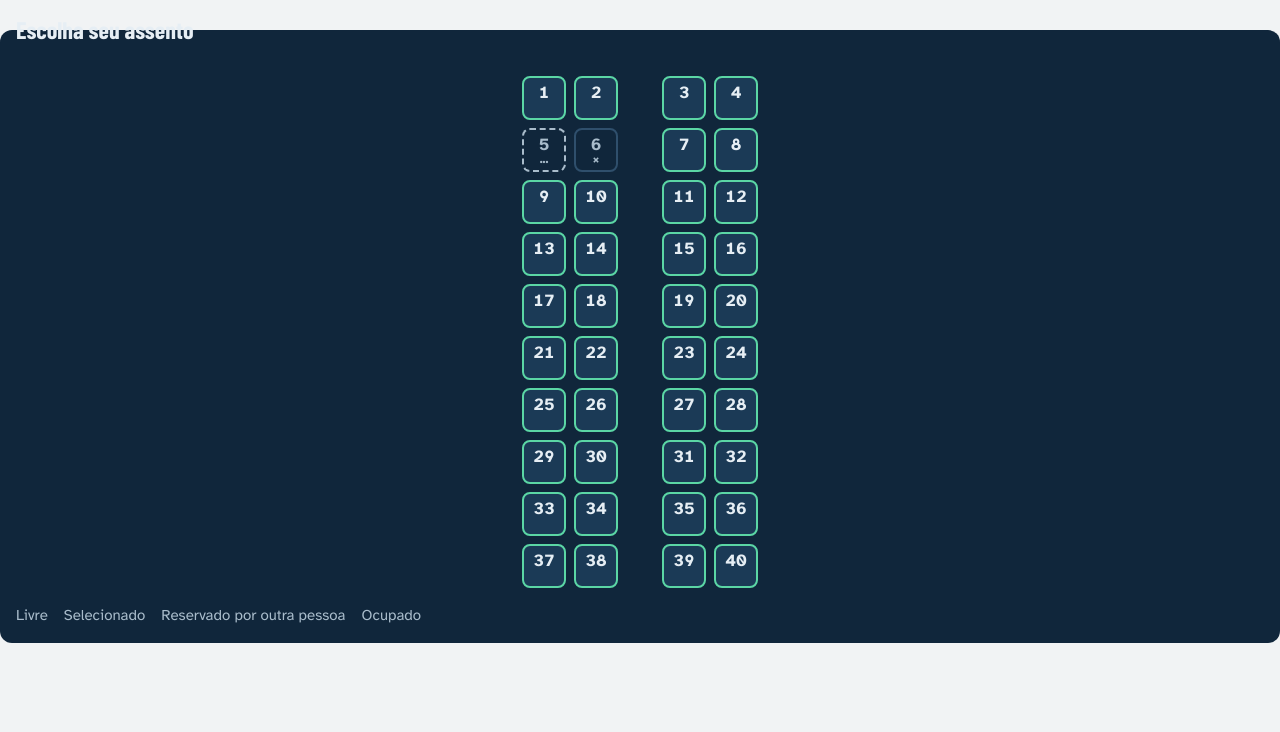
Test: SeatGrid › o teclado entra na grade com um Tab e as setas pulam os assentos indisponíveis
Step 1. Press Tab
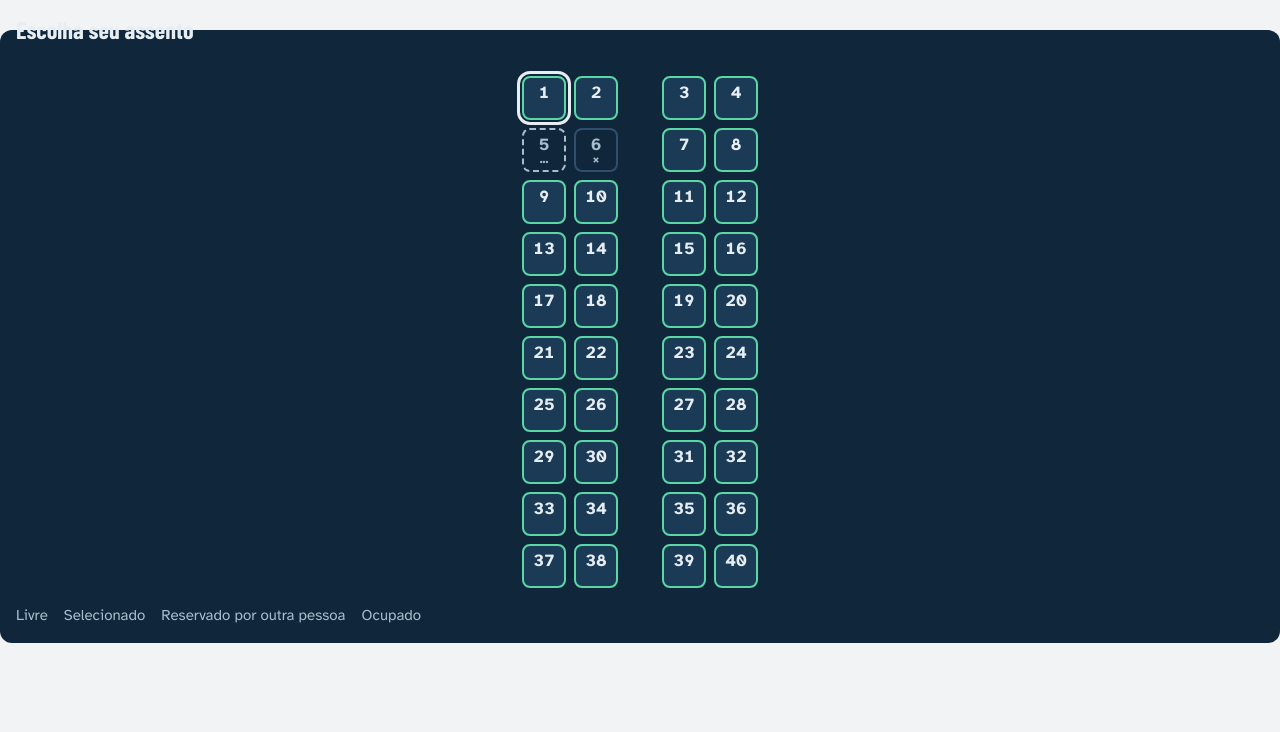
Step 2. Click the radio button named "Assento 4, livre" → (736, 98), box [714,76,758,120]
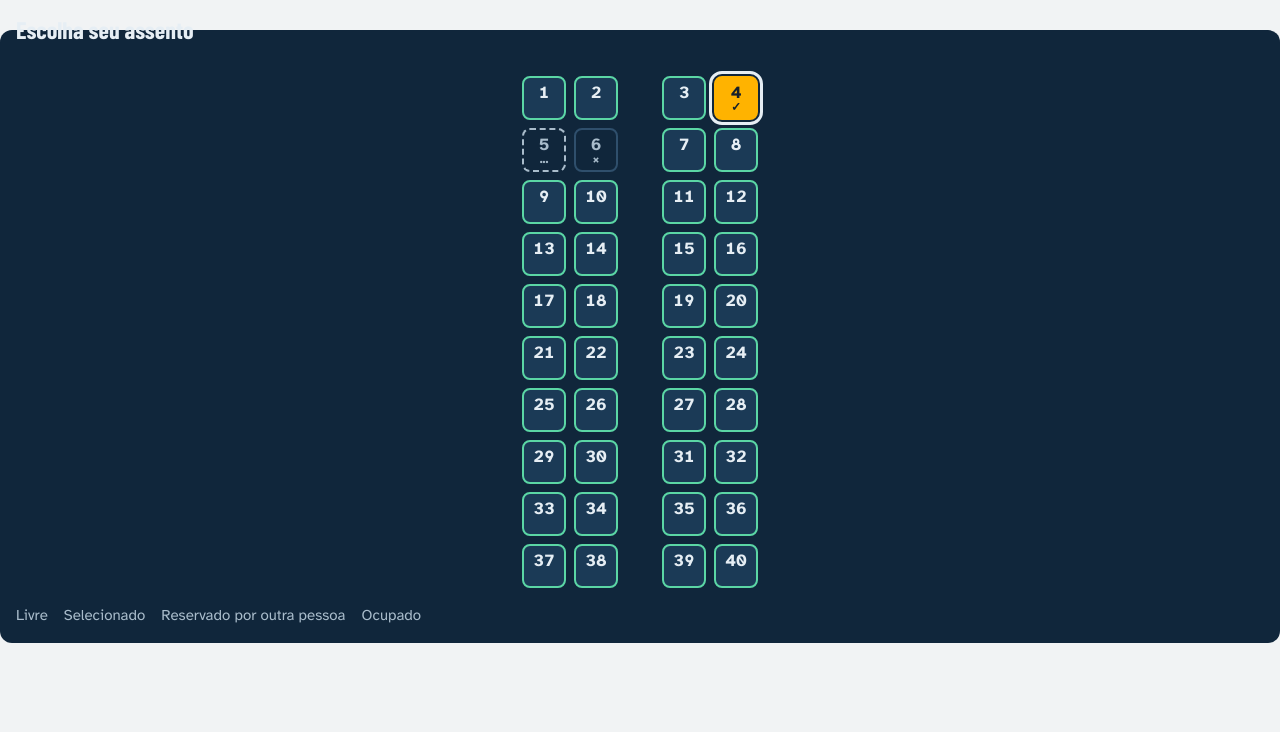
Step 3. Press Arrowright
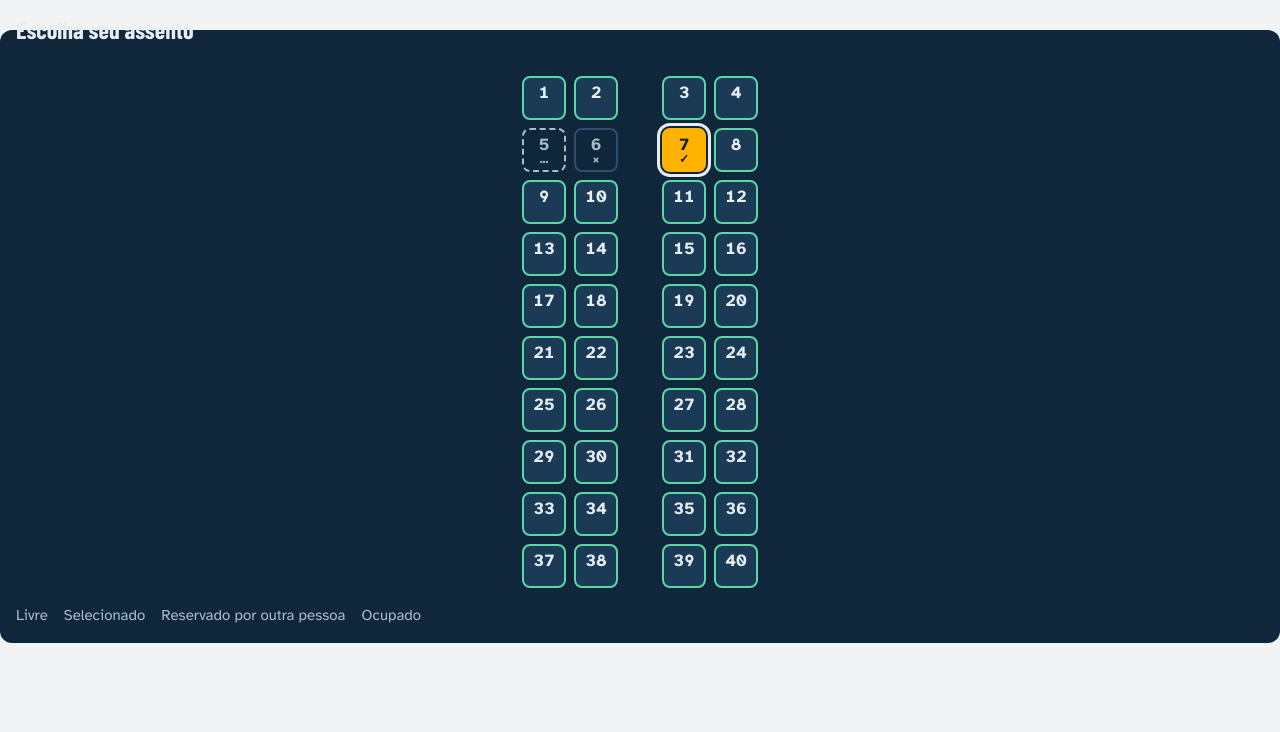
Check: the radio button named "Assento 7, livre" is checked, box [662,128,706,172]
